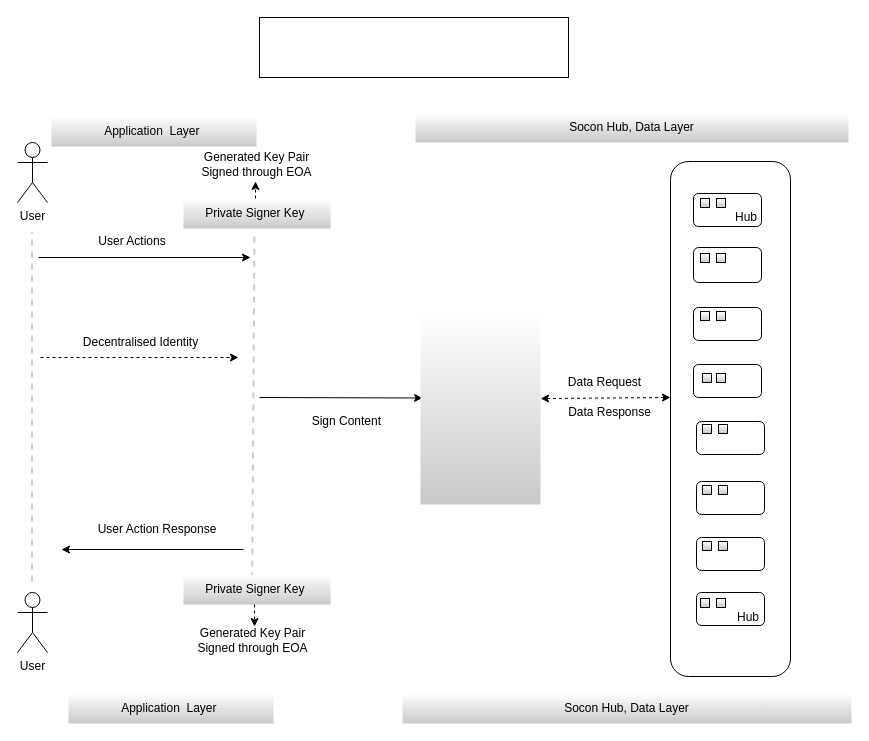
The diagram is 869 pixels wide and 741 high, and some of its shapes have lost their labels. Each missing label, with the centre of its shape:
"SoCon Overall Architecture Flow" goes at point 413,47.
"Validation of Signer Key's Ownership" goes at point 480,407.
